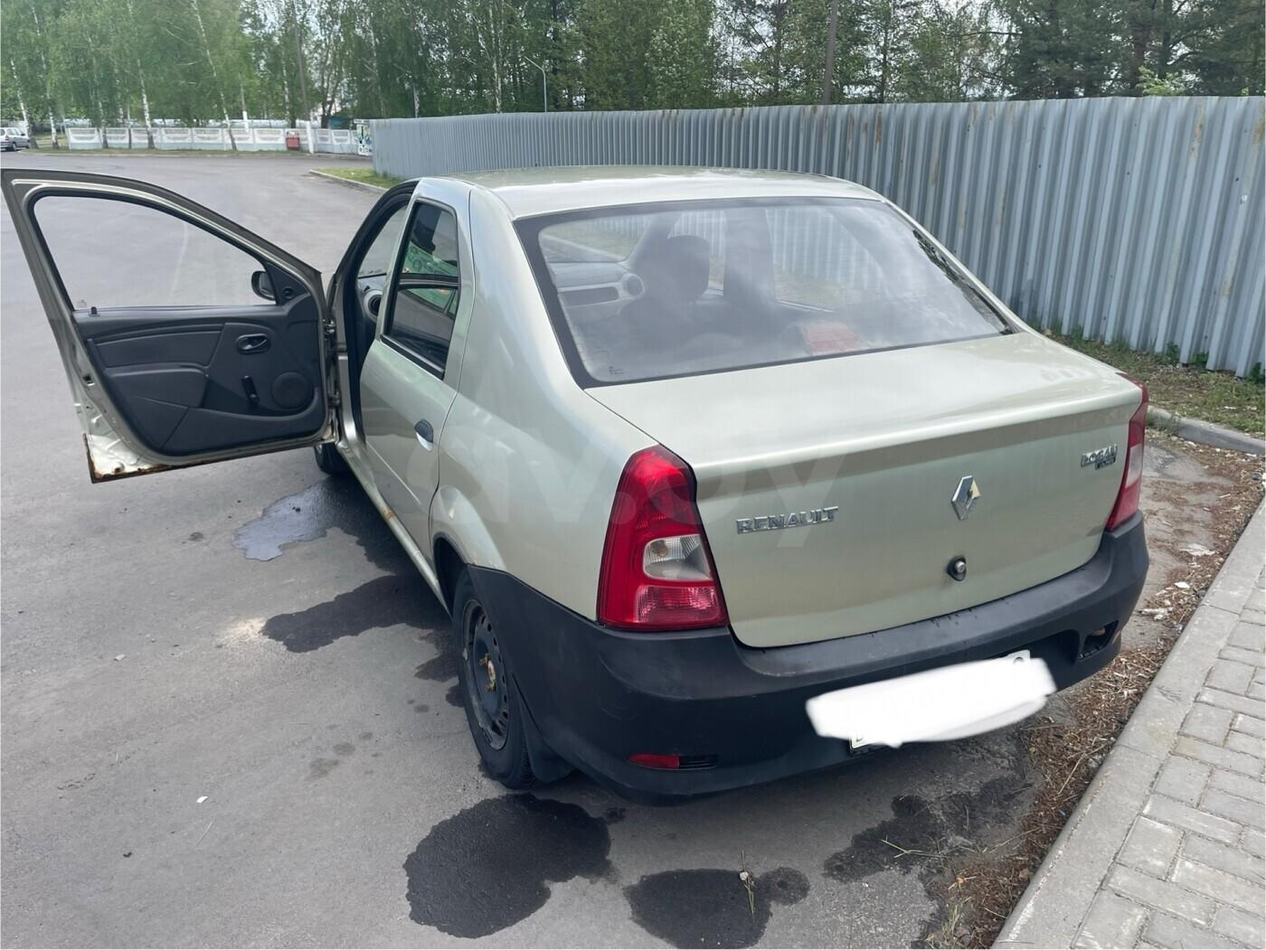Logan_2008-2015: (283, 163, 1159, 817)
